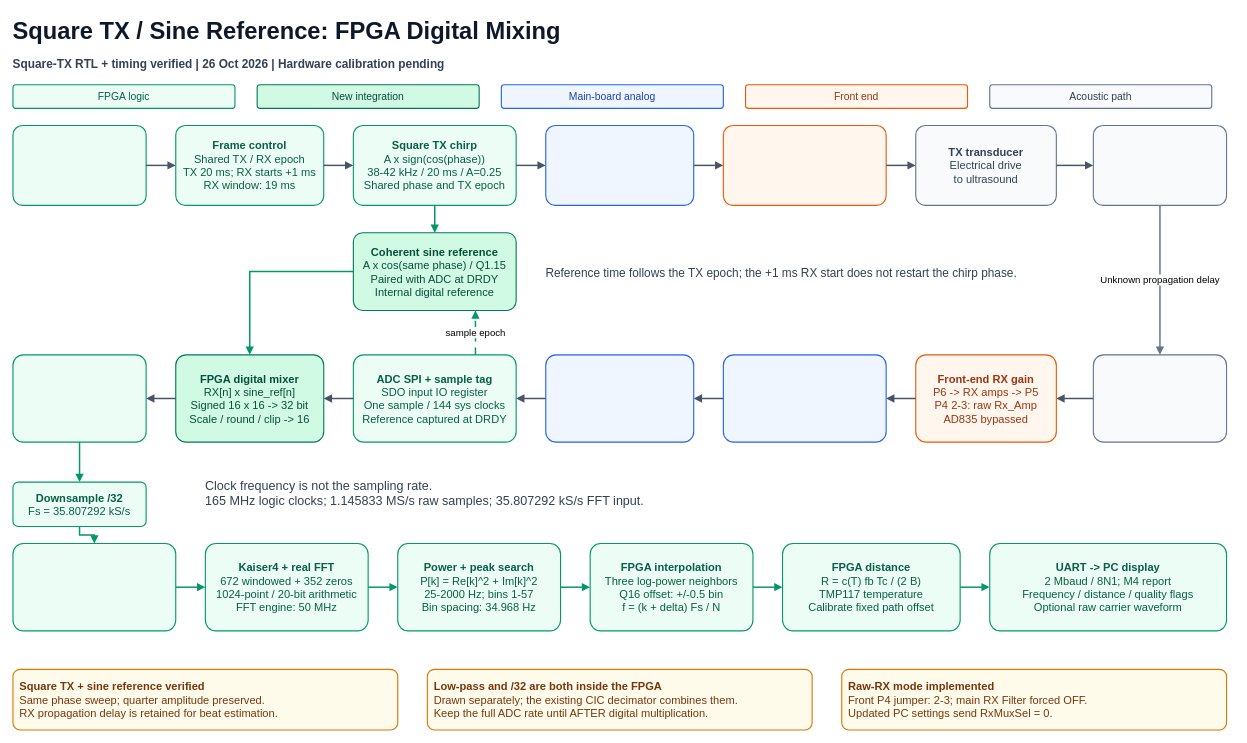
Some shapes in this 1247 by 743 pixel diagram are drawn without their labels. Each missing label, with the centre of its shape:
"ADS127L21 ADC 16-bit signed output 27.5 MHz; sinc4 OSR12 Fs = 1.145833 MS/s" goes at (x=619, y=398).
"DAC + TX analog 14-bit square: 6144 / 10240 165 MHz update clock Main P4: TX_OUT" goes at (x=619, y=165).
"Digital low-pass: CIC3 Passband: 0-2 kHz Droop <= 0.134 dB 76-84 kHz: ~55-75 dB" goes at (x=79, y=398).
"FFT frame Discard 2 CIC start-up outputs 672 samples / 18.767 ms Remove frame DC" goes at (x=94, y=587).
"Front-end TX driver Front P3 input Power amplification Front P2 differential out" goes at (x=804, y=165).
"Main-board RX analog P5 / gain / THS4551 RX Filter OFF Bypass ~15 kHz LPF" goes at (x=804, y=398).
"PC configuration UART commands + trigger 2 Mbaud / 8N1" goes at (x=79, y=165).
"RX transducer Near-sine RX carrier Propagation delay Amplitude / phase effects" goes at (x=1159, y=398).
"Target / echo Delay + attenuation Test sweep: 10-75 cm" goes at (x=1159, y=165).
